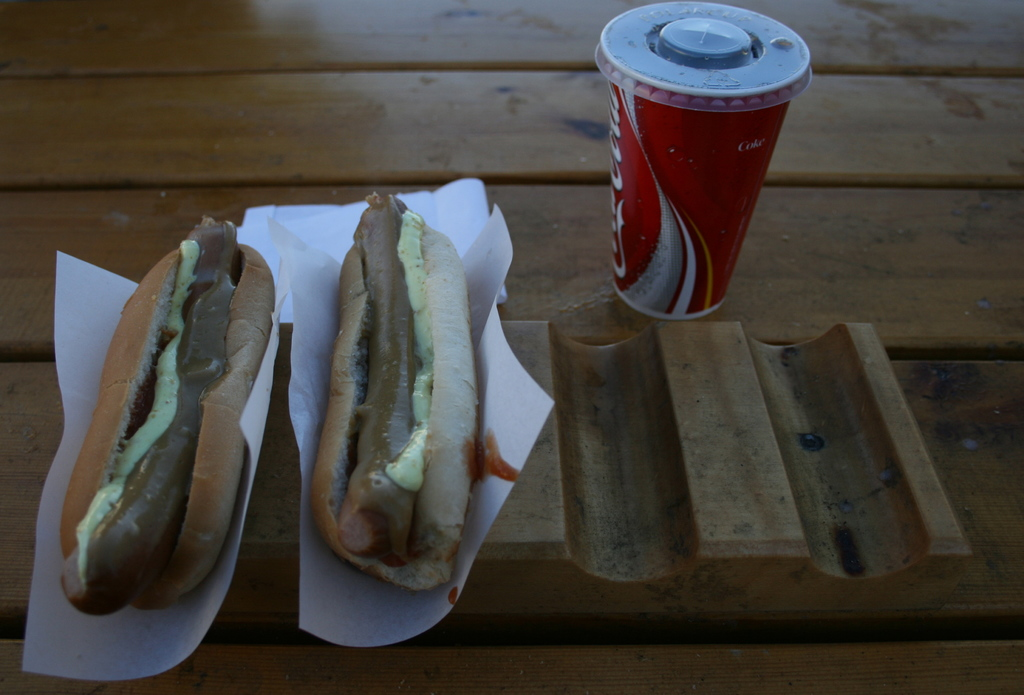hot_dog: (51, 210, 288, 672), (304, 190, 483, 594)
